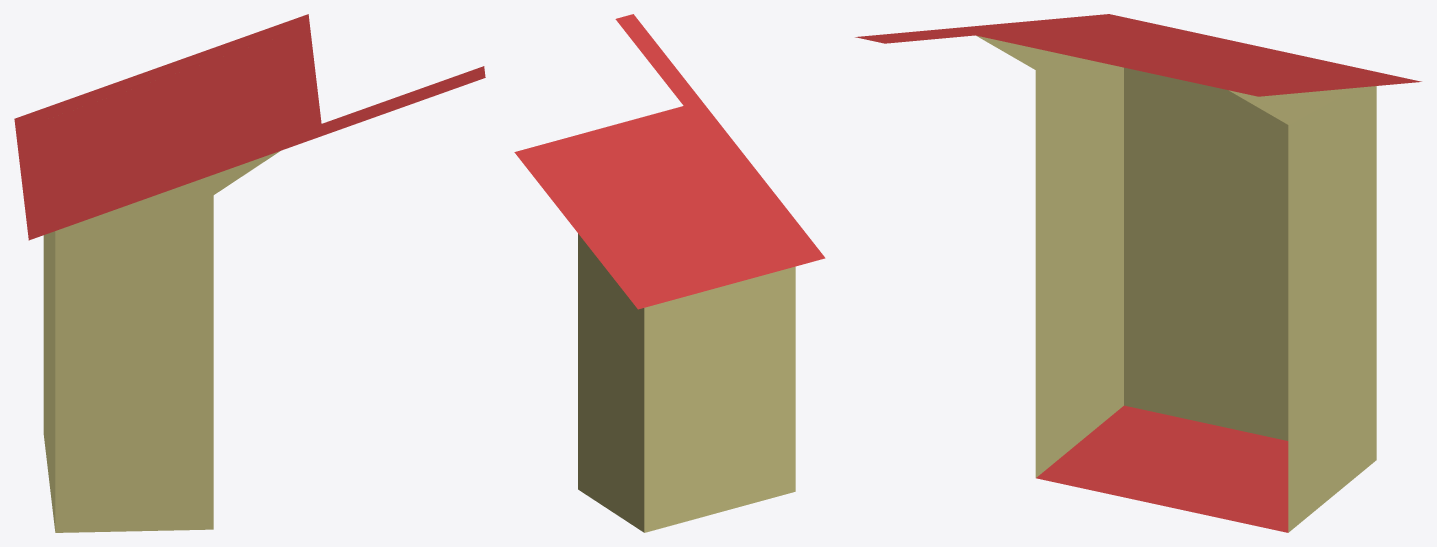
3 renders of one model, left to right at view 1: azimuth 30°, elevation 25°; view 2: azimuth 150°, elevation 25°; view 3: azimuth 270°, elevation 25°, orthographic. The views are drawn at different scales.
Bounding box in the file's own units: 7.49 × 8.31 × 9.02.
